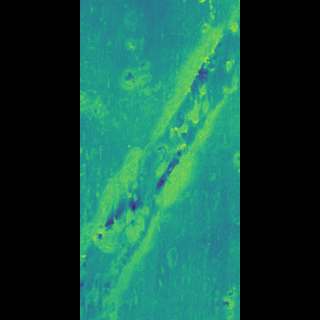Loch: (119, 13, 202, 318)
